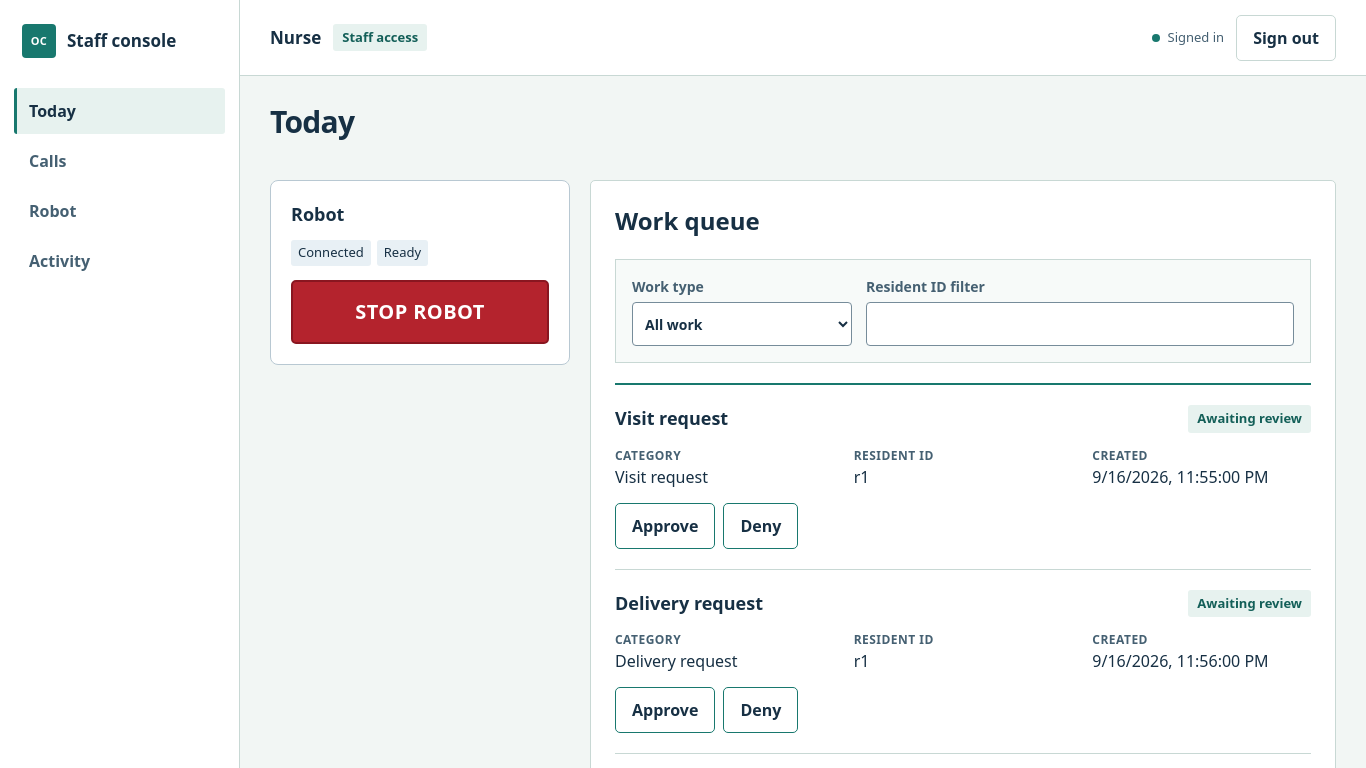
Test: navweb heartbeat canceled has a localized staff navigation status
Click the button "Robot".
click(120, 211)  # box [14,188,225,234]
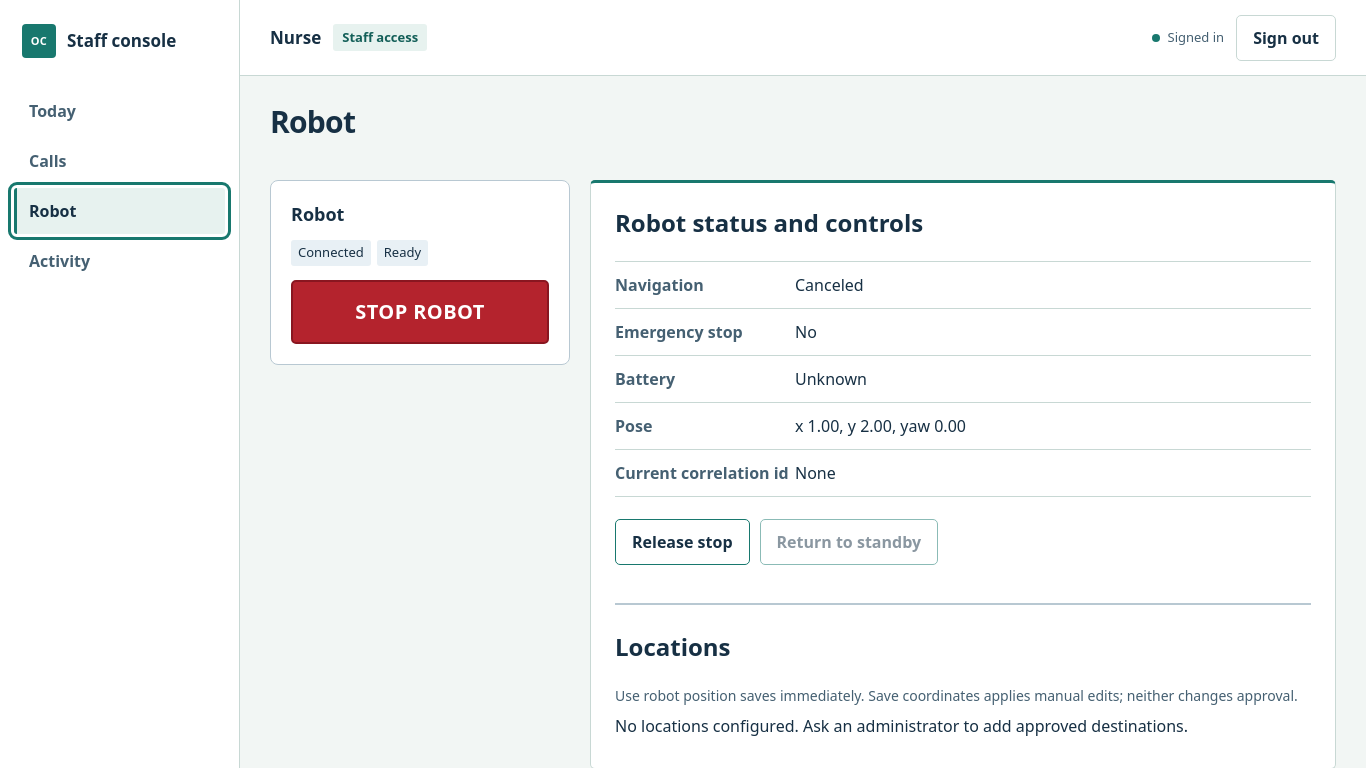
Check: the text "Canceled" is shown, box [795,262,1311,309]
